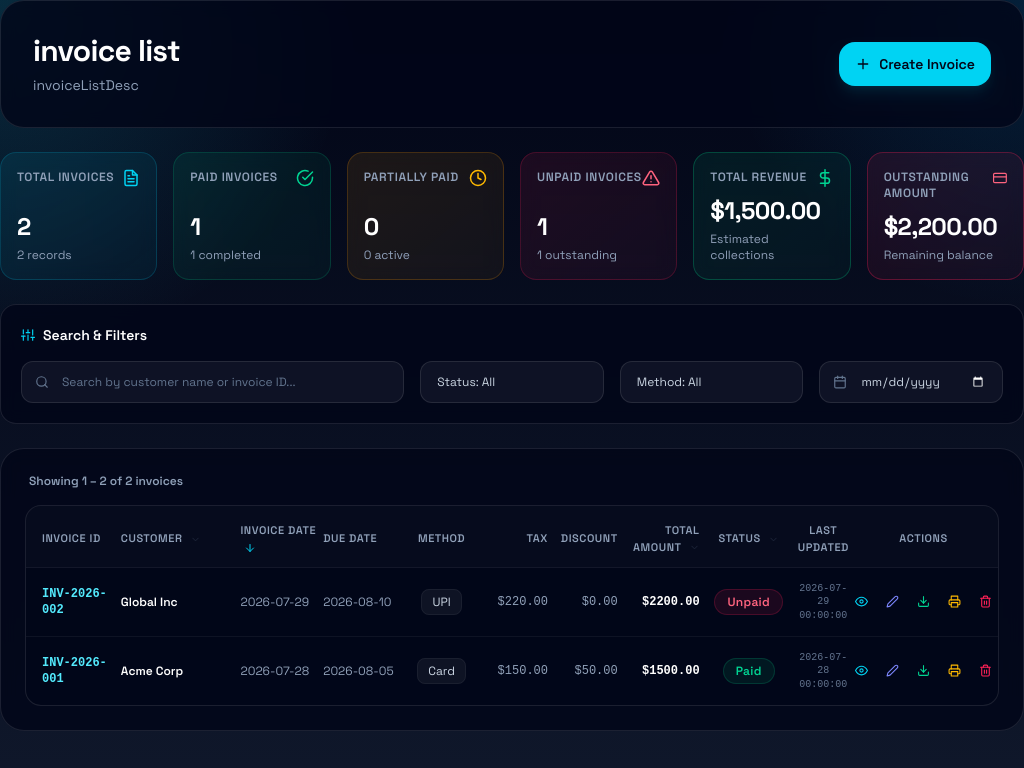
Test: InvoiceListPage Component Tests › opens Delete confirmation modal and cancels
Note: Find and click the trash button for the first row
Click the button titled "Delete invoice" in the row of "INV-2026-002" at (986, 602), box [973,590,998,614]
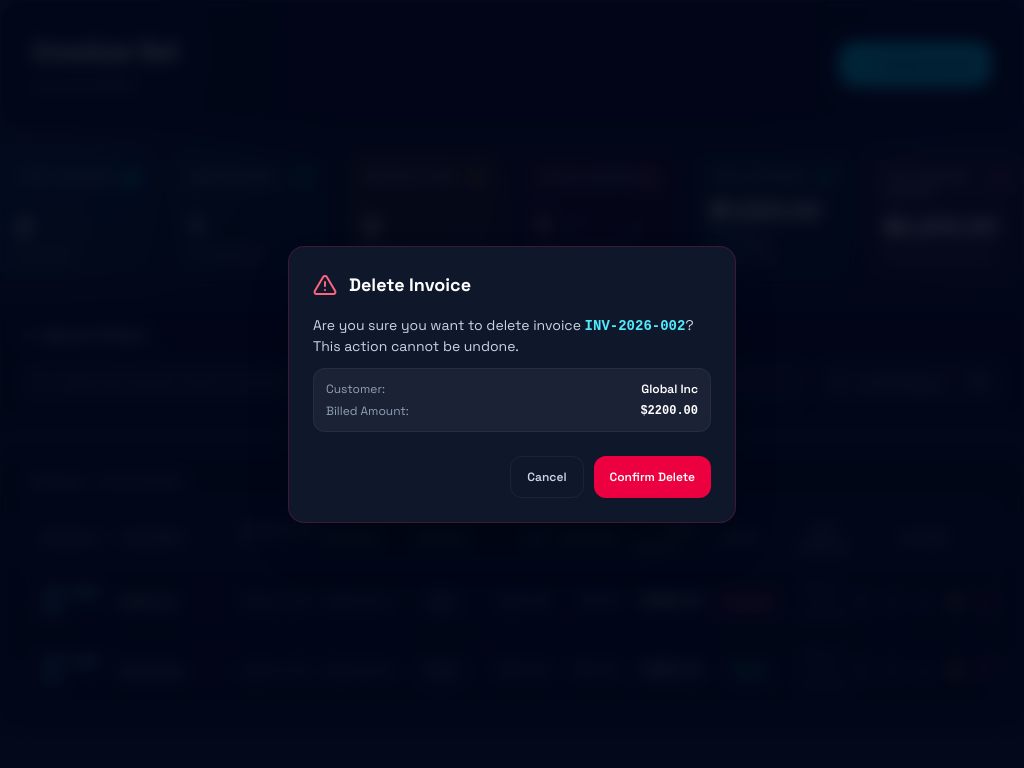
Expected: the heading "Delete Invoice" is shown, [349,270,471,298]
Click the button "Cancel" at (547, 476), box [510,456,584,498]
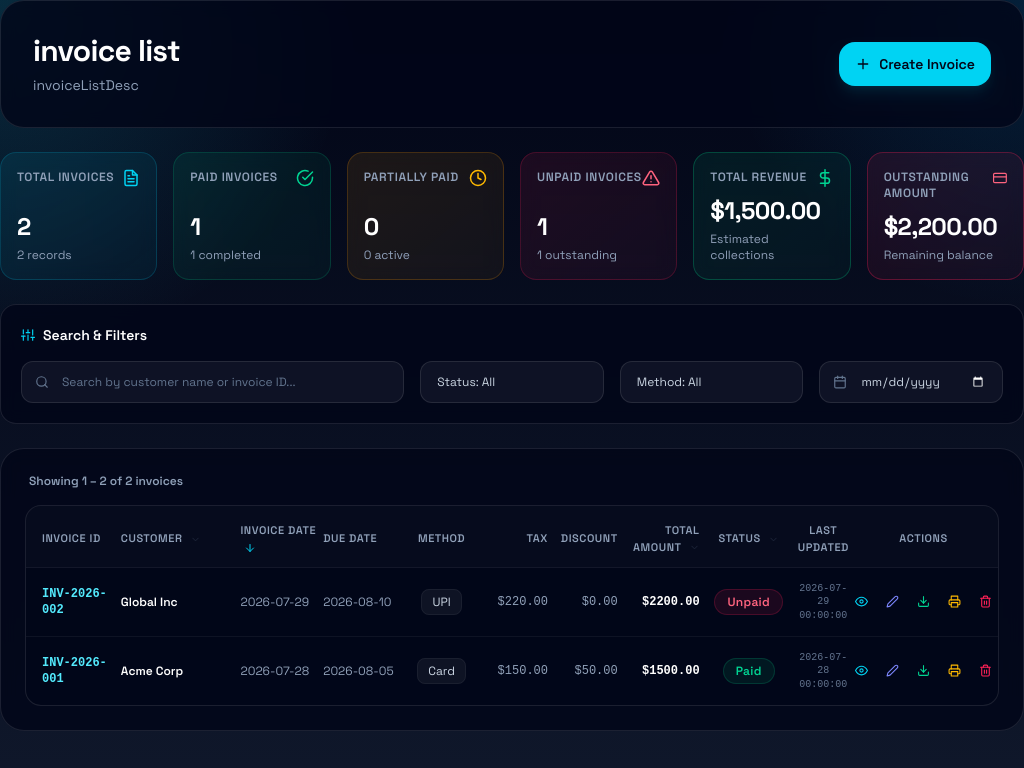
Expected: the text "INV-2026-001" is shown, [26,636,121,705]
Expected: the heading "Delete Invoice" is gone
